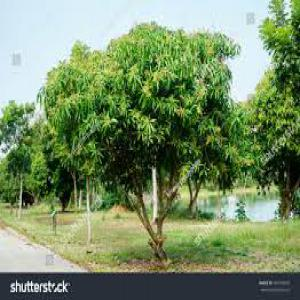Tree: (38, 20, 237, 252)
